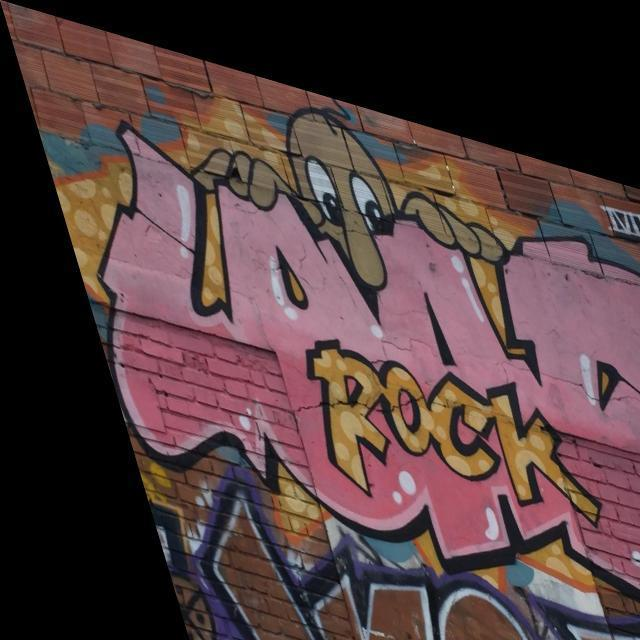-: (24, 76, 640, 626), (141, 46, 544, 310), (584, 158, 640, 220)
